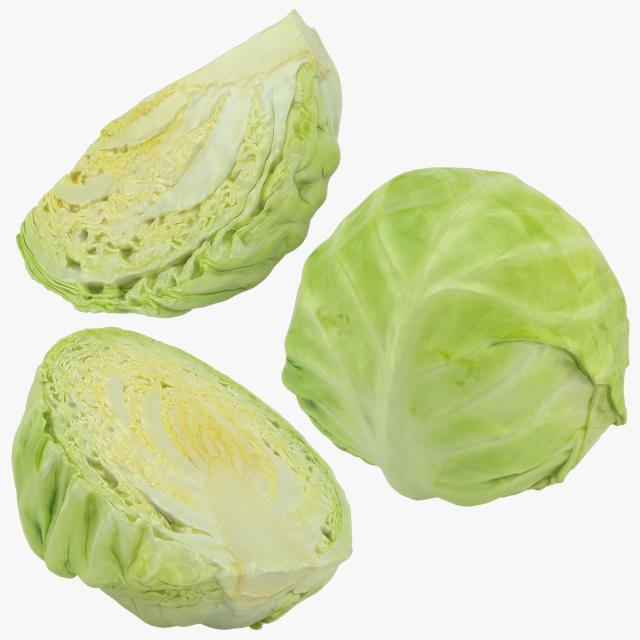cabbage: (282, 165, 630, 513)
haft-cabbage: (12, 323, 353, 635), (11, 10, 346, 324)
